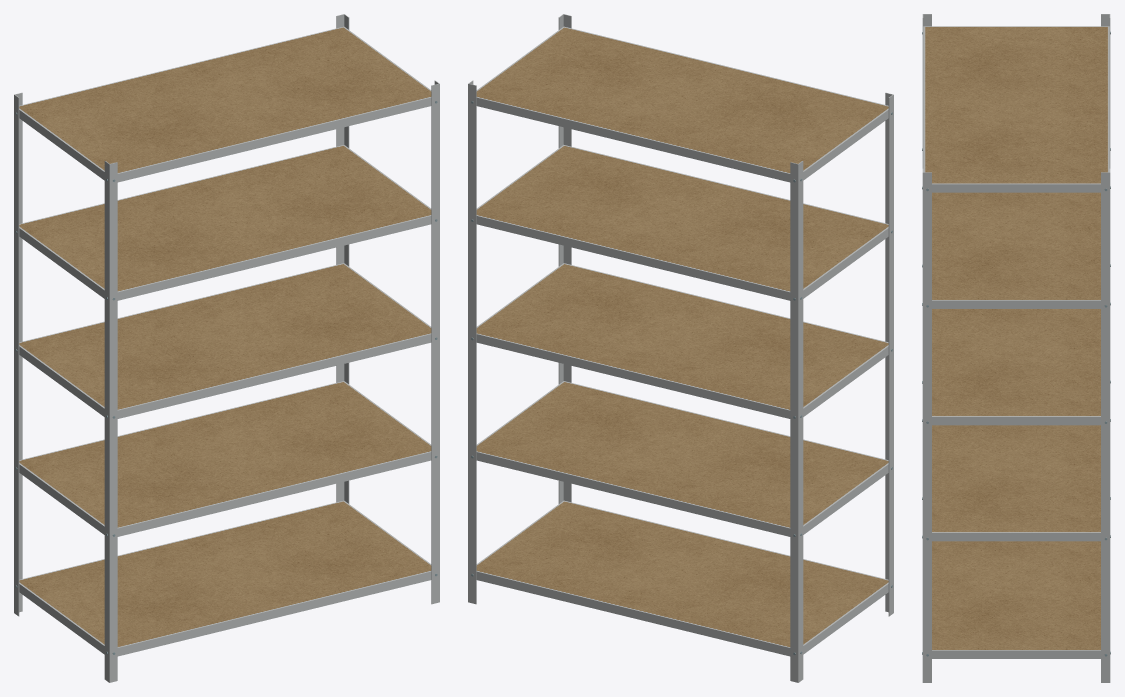
Rendered from Rack_A.fbx.
3 renders of one model, left to right at view 1: azimuth 30°, elevation 25°; view 2: azimuth 150°, elevation 25°; view 3: azimuth 270°, elevation 25°, orthographic.
Parts seen in each view (by area): view 1: Rack_A; view 2: Rack_A; view 3: Rack_A.
Boxes of the visible parts, x1,y1,x2,y2 form: Rack_A: [14, 14, 439, 682]; Rack_A: [468, 14, 893, 682]; Rack_A: [922, 14, 1110, 682].
Size of the model in its own units: 122 by 183 by 61.36.
